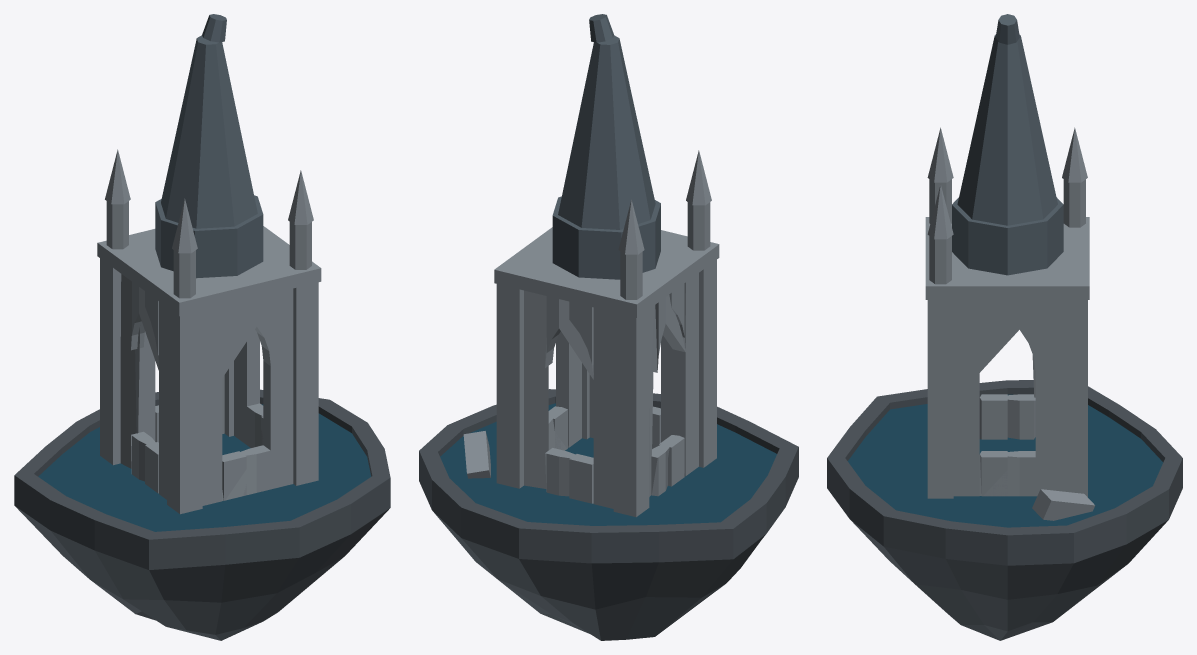
The model's file is saltwater-cathedral.glb.
3 views of the same model, side by side, from view 1: azimuth 30°, elevation 25°; view 2: azimuth 150°, elevation 25°; view 3: azimuth 270°, elevation 25° (orthographic).
Parts seen in each view (by area): view 1: Slab, Masonry, Spire, Wall0, Water, Wall2, Wall3, Wall1; view 2: Slab, Masonry, Spire, Wall1, Water, Wall2, Wall3, Wall0; view 3: Slab, Masonry, Spire, Wall3, Water, Wall2.
Part boxes in pixels (x1,y1,x2,y2): Slab: (14,389,390,640); Masonry: (97,149,321,514); Spire: (155,14,263,278); Wall0: (202,288,293,505); Water: (38,404,371,531); Wall2: (120,274,166,499); Wall3: (234,330,263,447); Wall1: (138,331,224,442); Slab: (419,389,798,640); Masonry: (463,150,719,517); Spire: (552,14,660,279); Wall1: (524,290,613,508); Water: (440,403,776,525); Wall2: (649,273,698,496); Wall3: (548,331,581,450); Wall0: (589,335,672,448); Slab: (827,380,1182,640); Masonry: (925,127,1095,520); Spire: (952,14,1063,275); Wall3: (953,300,1061,496); Water: (847,394,1163,527); Wall2: (979,355,1035,439).
Bounding box in the file's own units: 1.98 × 3.69 × 1.91.
